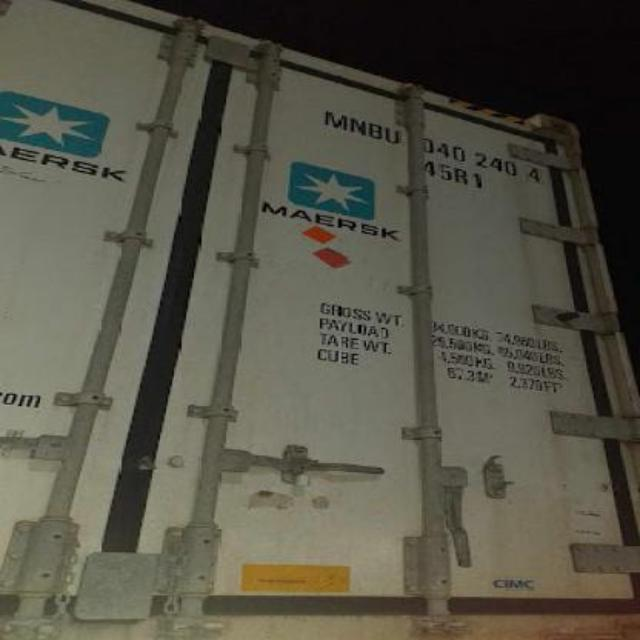0: (452, 137, 468, 163), (504, 152, 520, 178), (420, 135, 436, 153)
2: (470, 146, 488, 170)
4: (524, 160, 544, 183), (436, 132, 452, 160), (488, 146, 502, 176)
B: (371, 116, 384, 142)
M: (324, 108, 348, 130)
N: (348, 107, 368, 137)
U: (384, 122, 404, 144)
